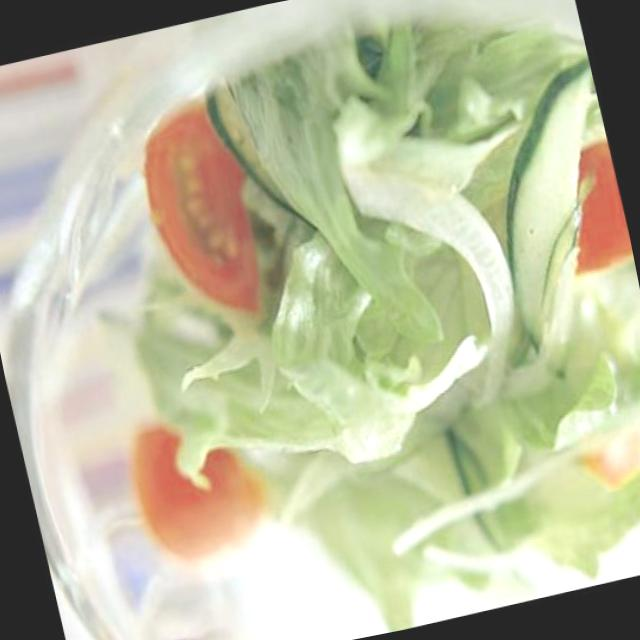Green Salad: (96, 7, 640, 636)
